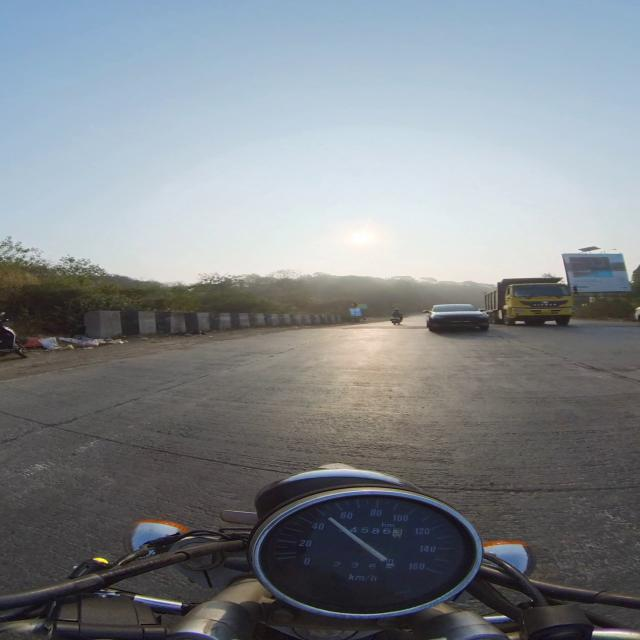car: (425, 304, 489, 331)
motorcycle: (0, 465, 639, 639), (0, 312, 27, 357), (391, 317, 403, 325)
